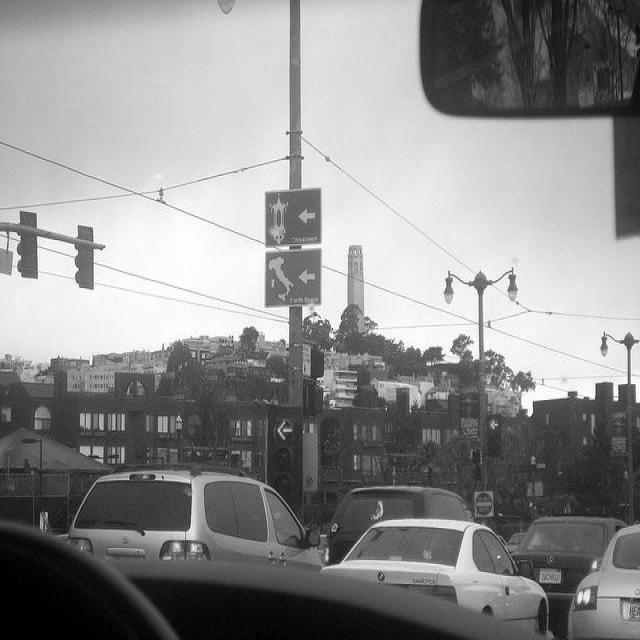vehicle: (1, 514, 551, 640), (327, 524, 557, 628), (70, 470, 305, 563), (511, 515, 631, 635), (324, 489, 476, 564), (566, 524, 640, 640), (505, 533, 526, 553)
